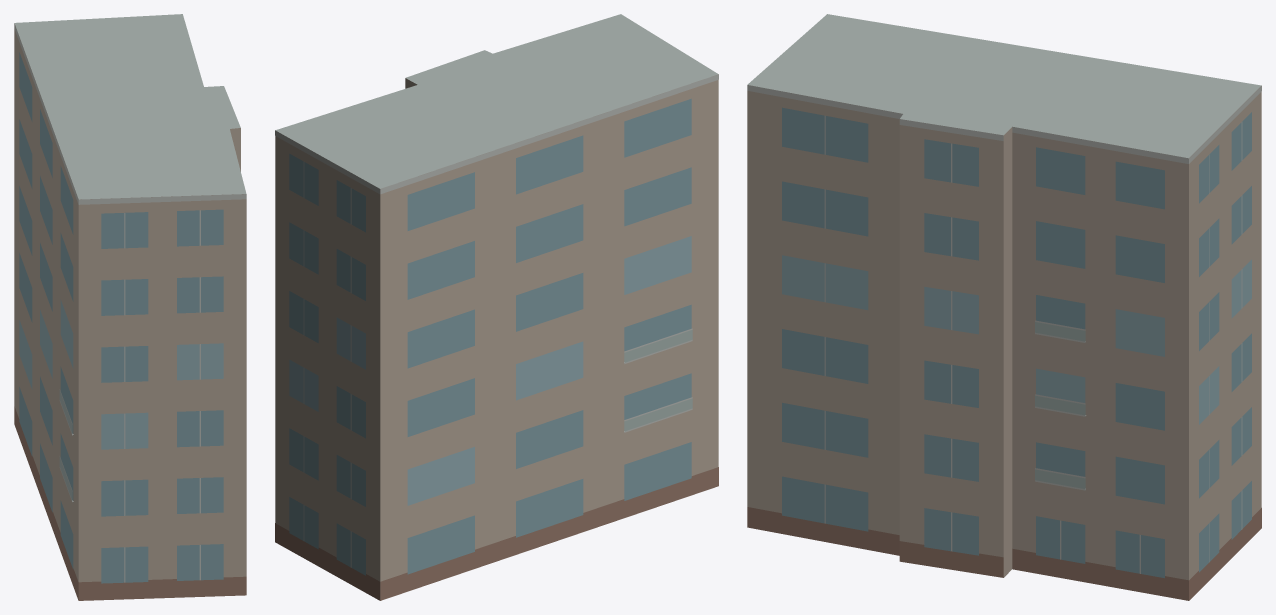
The model's file is survey-upis-32531670.glb.
The picture shows the model from 3 angles, left to right: view 1: azimuth 30°, elevation 25°; view 2: azimuth 150°, elevation 25°; view 3: azimuth 270°, elevation 25°; orthographic projection. The views are drawn at different scales.
Visible parts, largest first — view 1: survey-upis-32531670.tmp; view 2: survey-upis-32531670.tmp; view 3: survey-upis-32531670.tmp.
Part boxes in pixels (x1,y1,x2,y2): survey-upis-32531670.tmp: (14,14,246,600); survey-upis-32531670.tmp: (275,14,718,600); survey-upis-32531670.tmp: (747,14,1261,600).
Size of the model in its own units: 12.8 by 18.3 by 19.29.
